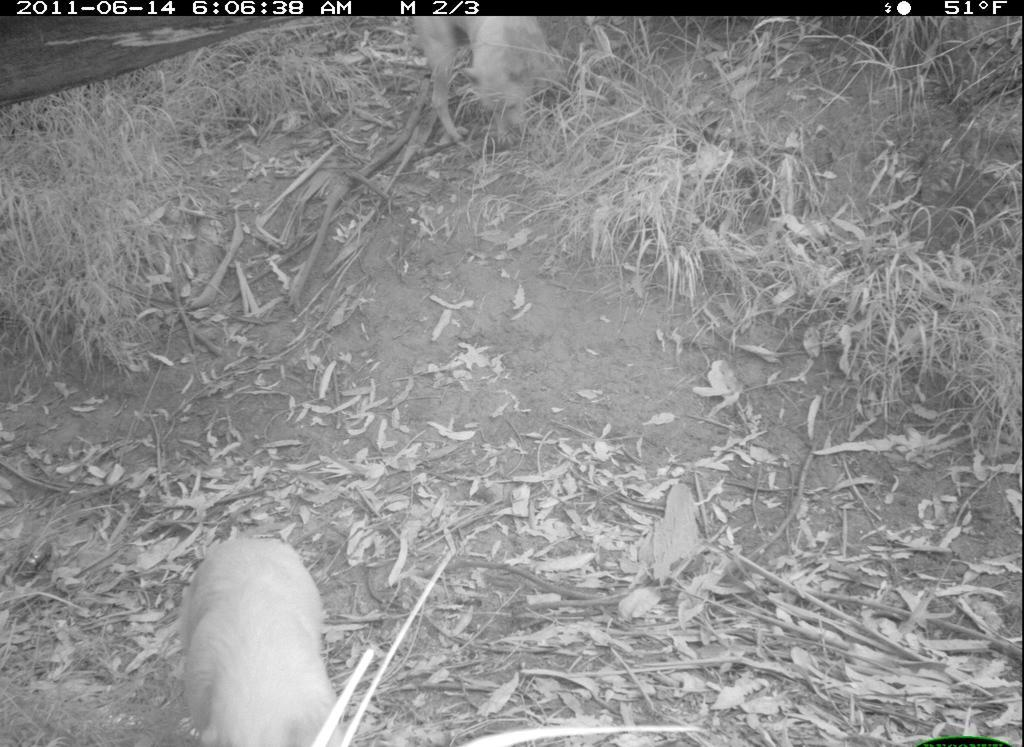dog: (161, 515, 358, 747), (402, 18, 566, 152)
